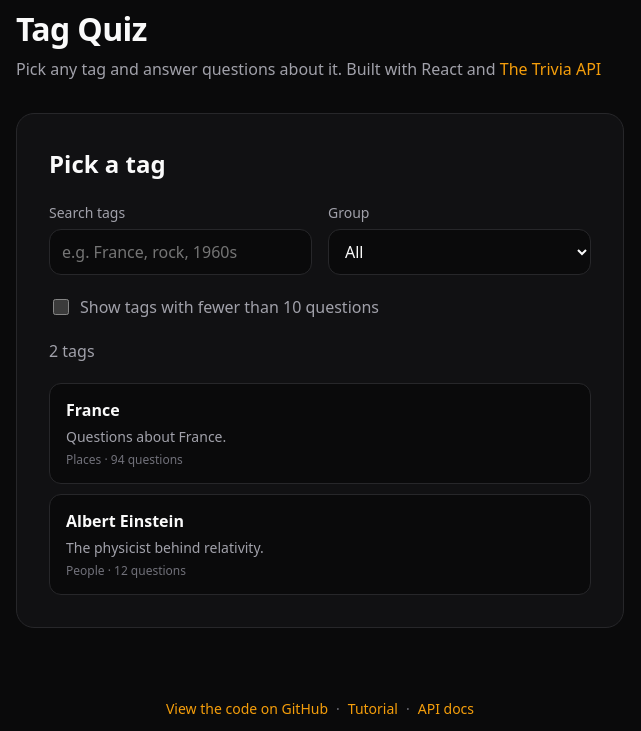
Test case: App › plays a quiz for the chosen tag and shows the score
Click the button "France Questions about France. Places · 94 questions".
click(93, 410)  # box 49,383 -> 591,484
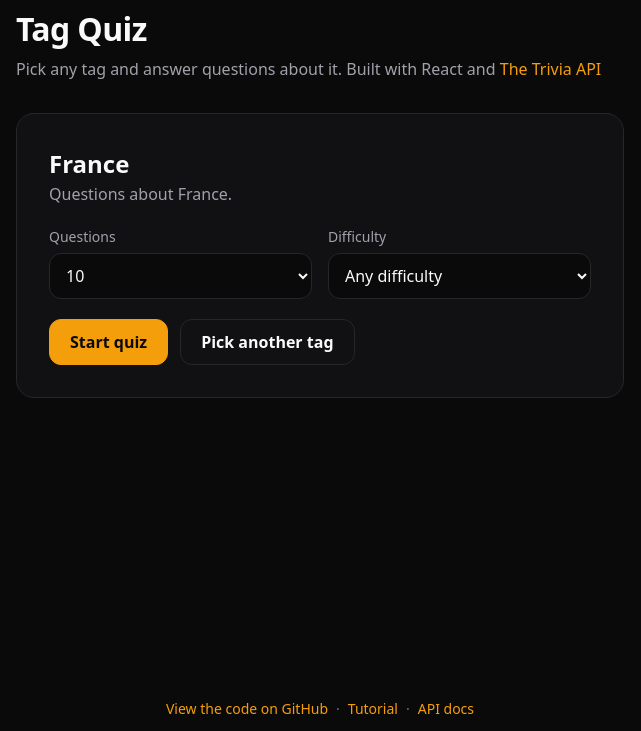
Click the button "Start quiz".
click(109, 342)  # box 49,319 -> 168,365
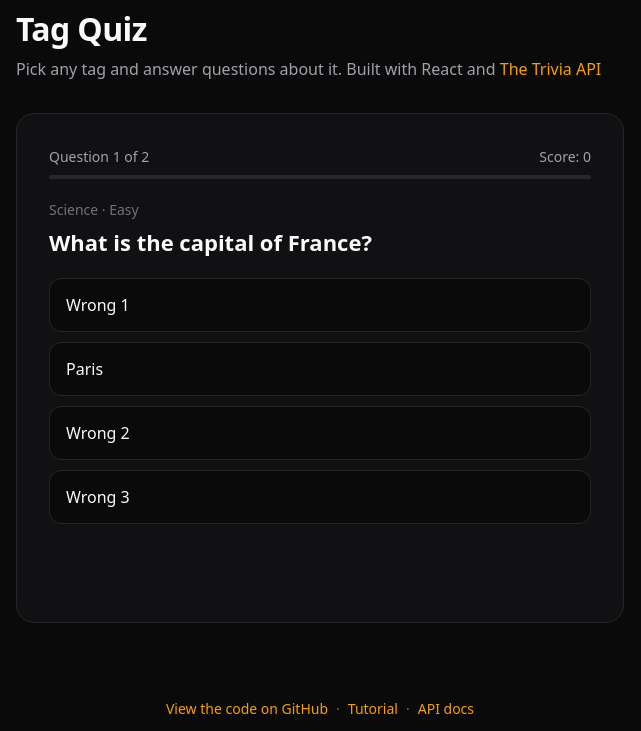
Check: the text "Question 1 of 2" is shown, box 49,146 -> 149,167
Click the button "Paris".
click(85, 369)  # box 49,342 -> 591,396
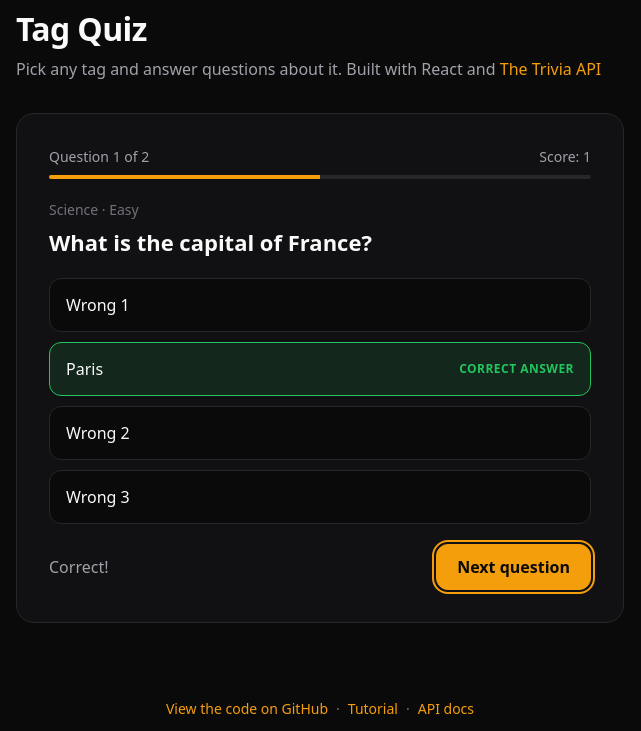
Check: the message reads "Correct!", box 49,556 -> 108,578
Click the button "Next question".
click(514, 567)  # box 436,544 -> 591,590
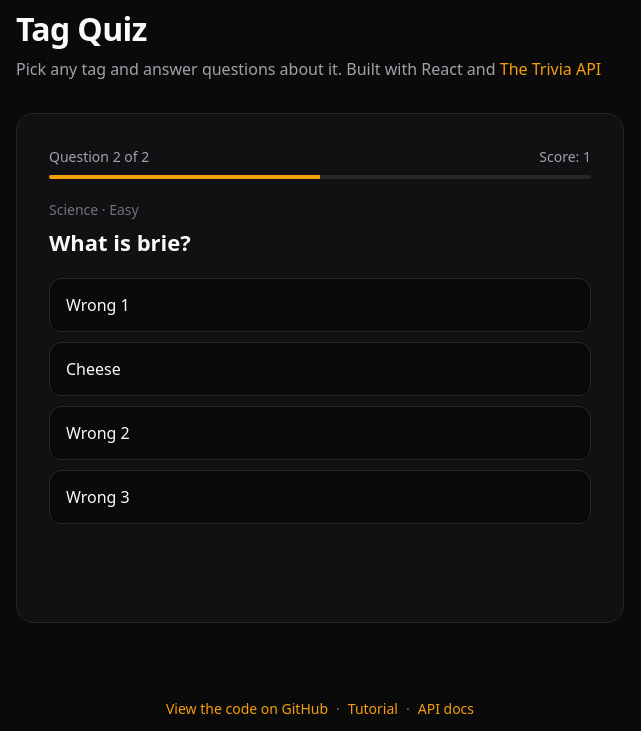
Click the button "Wrong 1".
click(98, 305)  # box 49,278 -> 591,332
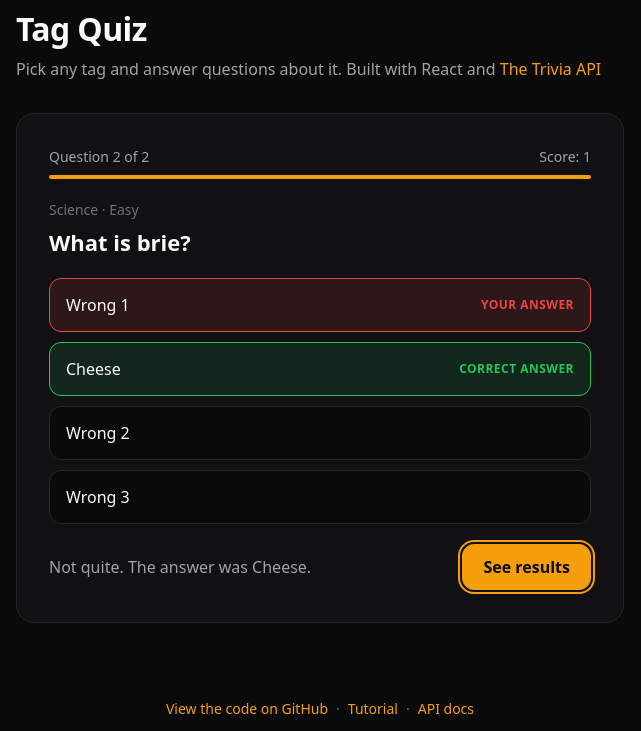
Check: the message reads "Not quite. The answer was Cheese.", box 49,556 -> 311,578
Click the button "See results".
click(527, 567)  # box 462,544 -> 591,590
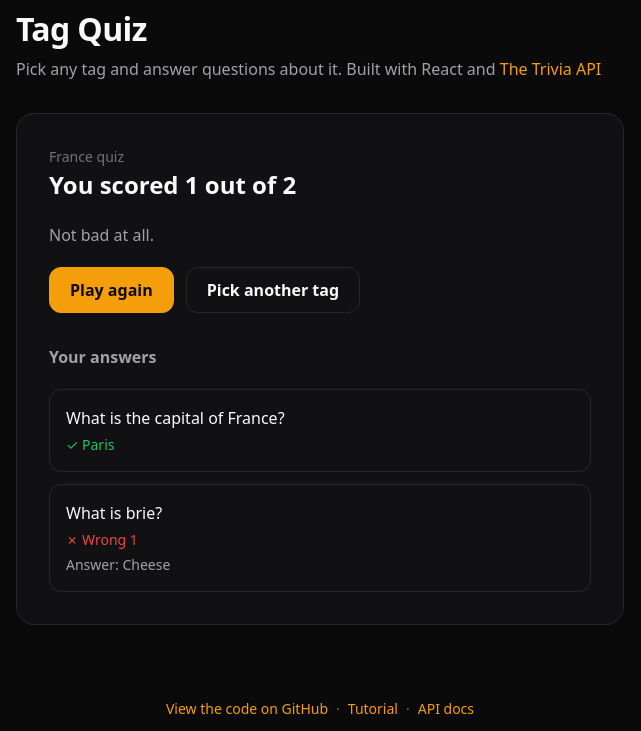
Check: the text "France quiz" is shown, box 49,147 -> 124,166
